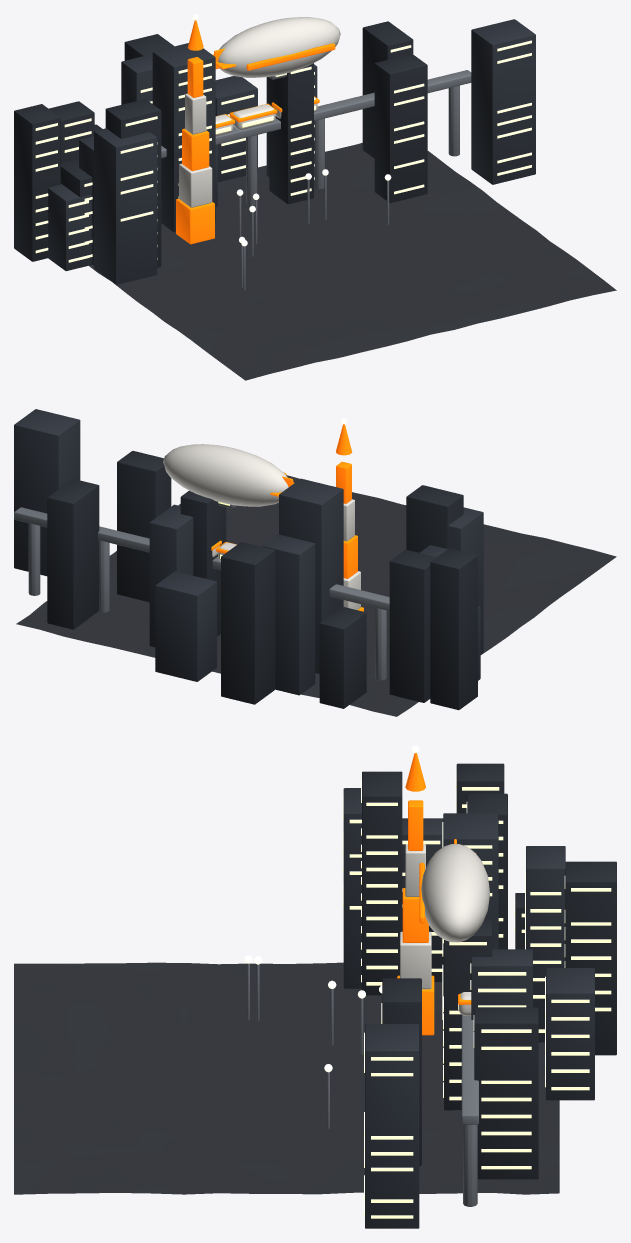
Rendered from loc_city_night.glb.
3 views of the same model, one above another, from view 1: azimuth 30°, elevation 25°; view 2: azimuth 150°, elevation 25°; view 3: azimuth 270°, elevation 25° (orthographic). The views are drawn at different scales.
Parts seen in each view (by area): view 1: Ci_Road, Ci_B14, Ci_B6, Ci_B1, Ci_B5, Ci_B2, Ci_B3, Ci_ShipBody, Ci_B4, Ci_B7, Ci_B15, Ci_B16 (+16 smaller); view 2: Ci_Road, Ci_B13, Ci_B5, Ci_B7, Ci_B14, Ci_B8, Ci_B16, Ci_B17, Ci_B2, Ci_ShipBody, Ci_B1, Ci_B11 (+11 smaller); view 3: Ci_Road, Ci_B14, Ci_B7, Ci_B15, Ci_B13, Ci_B16, Ci_ShipBody, Ci_B8, Ci_B3, Ci_B6, Ci_B0, Ci_B2 (+11 smaller).
Part boxes in pixels (<box>): Ci_Road: <box>89,143,616,380</box>; Ci_B14: <box>471,19,535,184</box>; Ci_B6: <box>94,128,157,284</box>; Ci_B1: <box>374,54,427,202</box>; Ci_B5: <box>14,104,60,261</box>; Ci_B2: <box>152,43,215,232</box>; Ci_B3: <box>269,63,313,204</box>; Ci_ShipBody: <box>218,17,340,77</box>; Ci_B4: <box>48,183,91,271</box>; Ci_B7: <box>362,21,413,158</box>; Ci_B15: <box>105,99,161,267</box>; Ci_B16: <box>215,76,257,182</box>; Ci_Road: <box>16,475,616,716</box>; Ci_B13: <box>221,542,275,704</box>; Ci_B5: <box>430,548,477,710</box>; Ci_B7: <box>47,479,99,629</box>; Ci_B14: <box>14,409,80,576</box>; Ci_B8: <box>262,534,315,695</box>; Ci_B16: <box>155,571,216,681</box>; Ci_B17: <box>389,549,436,702</box>; Ci_B2: <box>279,478,343,673</box>; Ci_ShipBody: <box>163,444,288,506</box>; Ci_B1: <box>117,451,171,602</box>; Ci_B11: <box>319,606,366,708</box>; Ci_Road: <box>14,962,559,1194</box>; Ci_B14: <box>365,1024,419,1228</box>; Ci_B7: <box>474,1007,538,1179</box>; Ci_B15: <box>362,771,402,995</box>; Ci_B13: <box>565,861,616,1055</box>; Ci_B16: <box>546,968,594,1100</box>; Ci_ShipBody: <box>421,844,489,942</box>; Ci_B8: <box>526,846,565,1042</box>; Ci_B3: <box>444,919,492,1110</box>; Ci_B6: <box>343,788,361,988</box>; Ci_B0: <box>471,949,532,1019</box>; Ci_B2: <box>443,813,498,1047</box>.
Size of the model in its own units: 27.74 by 12.71 by 24.32.
